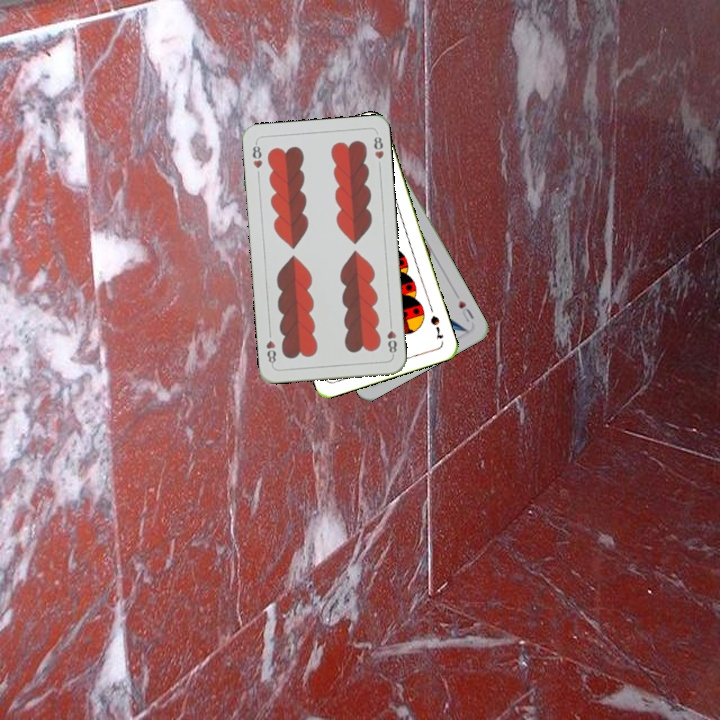H8: (383, 318, 399, 358), (248, 139, 265, 171)
HU: (454, 296, 476, 325)
S7: (426, 311, 446, 342)
